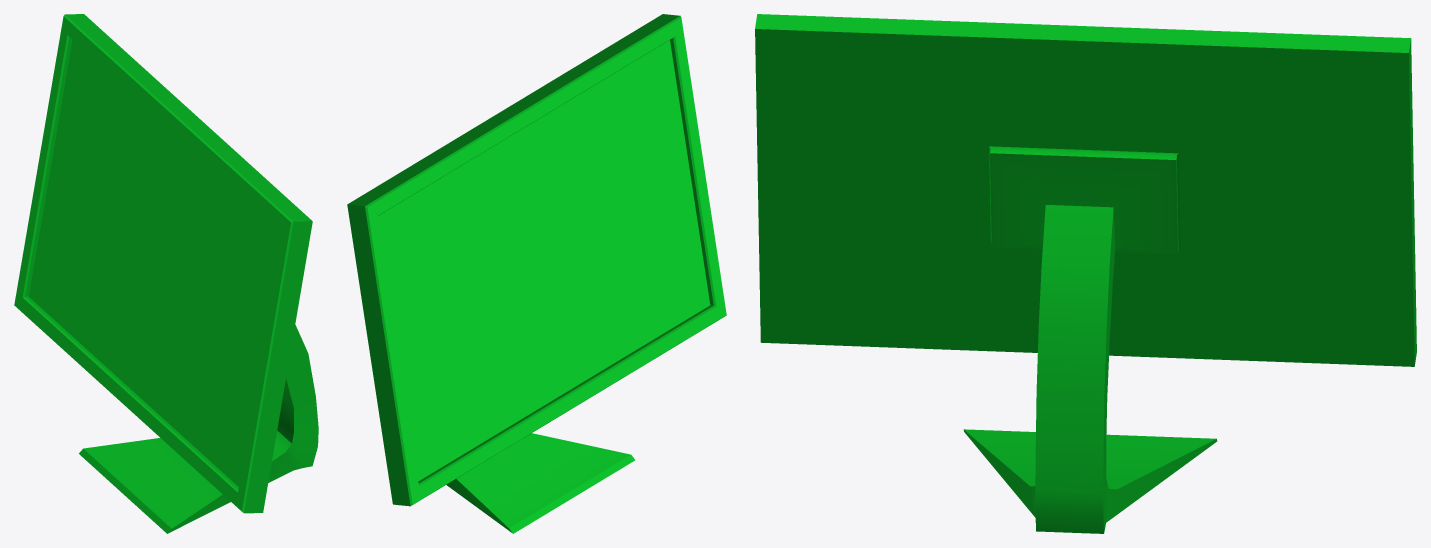
The model's file is monitor.FBX.
3 views of the same model, side by side, from view 1: azimuth 30°, elevation 25°; view 2: azimuth 150°, elevation 25°; view 3: azimuth 270°, elevation 25° (orthographic). The views are drawn at different scales.
Parts seen in each view (by area): view 1: Monitor001; view 2: Monitor001; view 3: Monitor001.
Boxes of the visible parts, x1=… form: Monitor001: x1=14, y1=14, x2=318, y2=533; Monitor001: x1=347, y1=14, x2=726, y2=533; Monitor001: x1=755, y1=14, x2=1416, y2=533.
Size of the model in its own units: 15.96 by 28.88 by 39.17.
